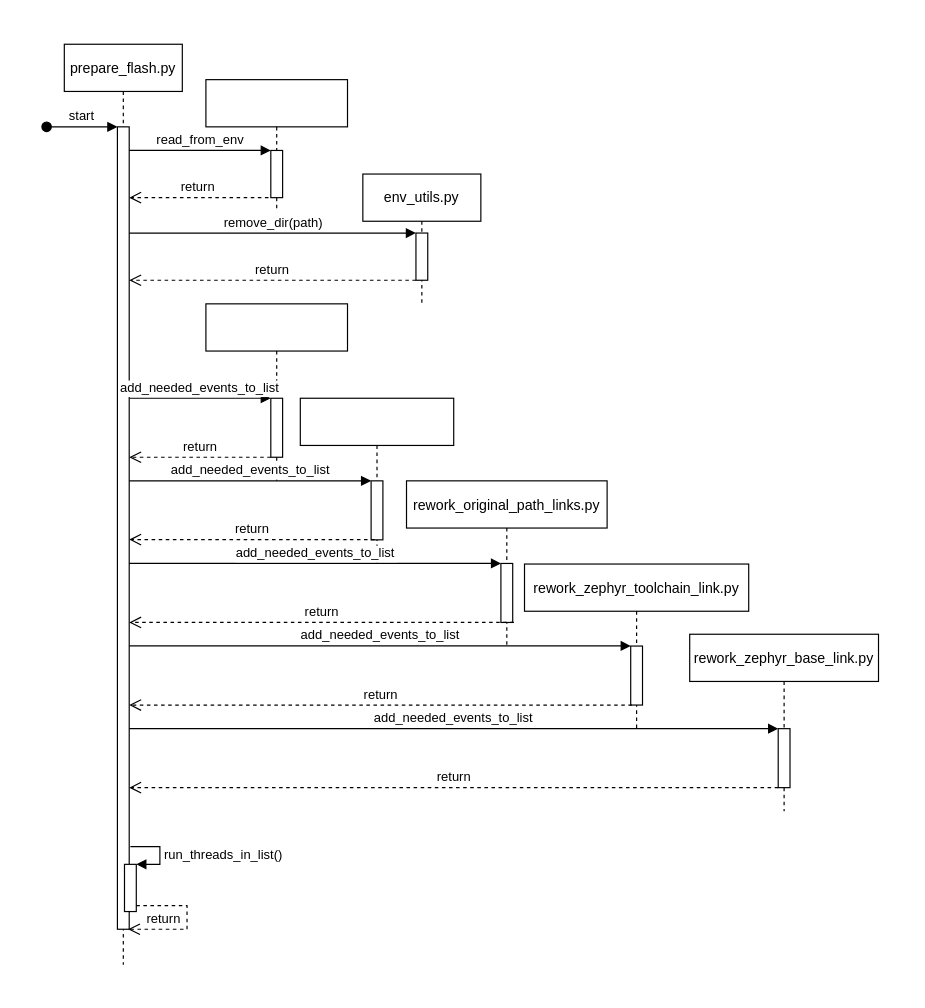
Some shapes in this 925 by 1008 pixel diagram are drawn without their labels. The centre of each missing label's shape, as x and y in pixels:
env_reader.py: point 276,143
rework_build_link.py: point 276,392
rework_cmake_link.py: point 376,480
